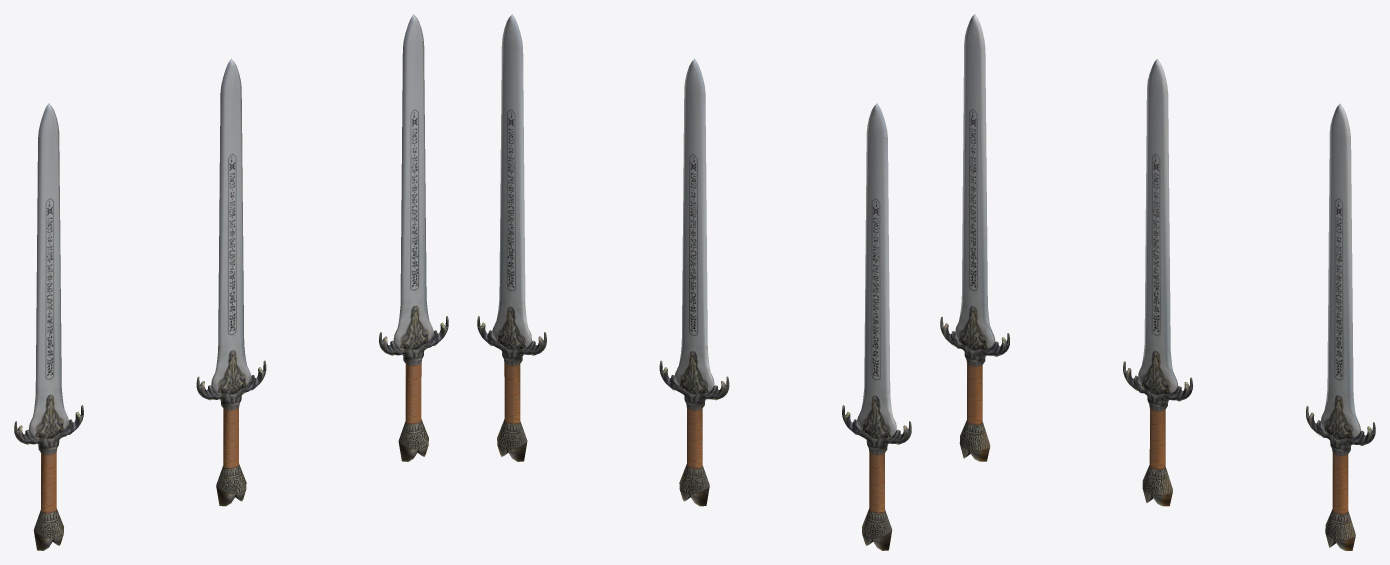
File: baphomet-sword-mostruario.obj
3 views of the same model, side by side, from view 1: azimuth 30°, elevation 25°; view 2: azimuth 150°, elevation 25°; view 3: azimuth 330°, elevation 25° (orthographic).
Parts seen in each view (by area): view 1: Baphomet-Sword.002_BaphometSword.002, Baphomet-Sword.001_BaphometSword.001, Baphomet-Sword_BaphometSword; view 2: Baphomet-Sword.002_BaphometSword.002, Baphomet-Sword.001_BaphometSword.001, Baphomet-Sword_BaphometSword; view 3: Baphomet-Sword.002_BaphometSword.002, Baphomet-Sword_BaphometSword, Baphomet-Sword.001_BaphometSword.001.
Part boxes in pixels (x1,y1,x2,y2): Baphomet-Sword.002_BaphometSword.002: [379, 14, 448, 461]; Baphomet-Sword.001_BaphometSword.001: [14, 103, 83, 550]; Baphomet-Sword_BaphometSword: [196, 58, 266, 506]; Baphomet-Sword.002_BaphometSword.002: [477, 14, 546, 461]; Baphomet-Sword.001_BaphometSword.001: [842, 103, 911, 550]; Baphomet-Sword_BaphometSword: [659, 58, 729, 506]; Baphomet-Sword.002_BaphometSword.002: [1306, 103, 1375, 550]; Baphomet-Sword_BaphometSword: [1123, 59, 1192, 506]; Baphomet-Sword.001_BaphometSword.001: [940, 14, 1009, 461].
Size of the model in its own units: 4.77 by 4.66 by 0.2155.
3 materials, 3 textured.
